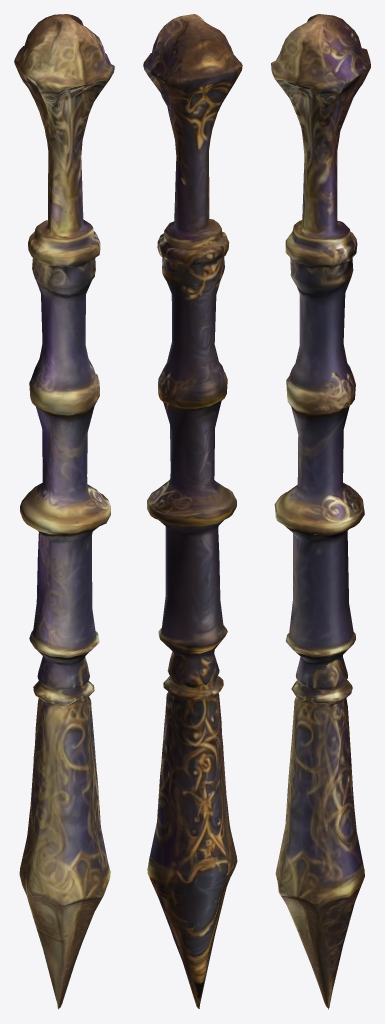
The model's file is 1031_wand.glb.
The picture shows the model from 3 angles, left to right: view 1: azimuth 30°, elevation 25°; view 2: azimuth 210°, elevation 25°; view 3: azimuth 330°, elevation 25°; orthographic projection.
Parts seen in each view (by area): view 1: Model; view 2: Model; view 3: Model.
Part boxes in pixels (x1,y1,x2,y2): Model: [14, 14, 114, 1009]; Model: [143, 14, 242, 1008]; Model: [271, 14, 370, 1009].
Size of the model in its own units: 0.0853 by 1 by 0.0841.
1 material, 1 textured.
